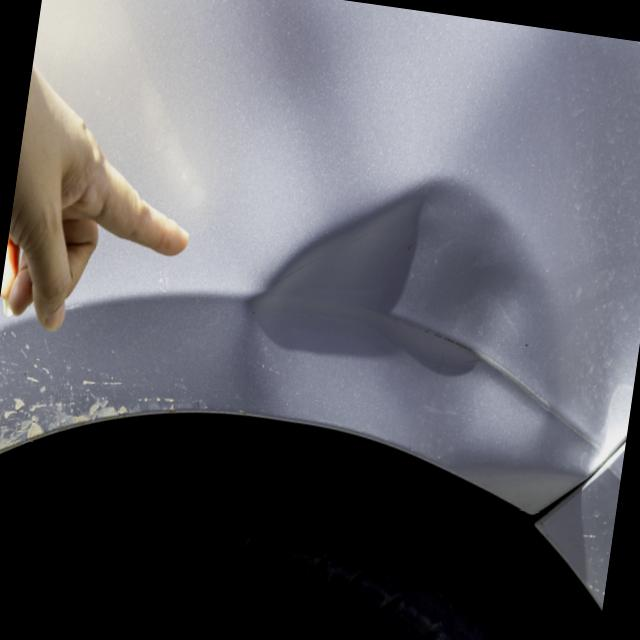Cabossage: (219, 148, 594, 492)
Rayure: (0, 340, 218, 510)
